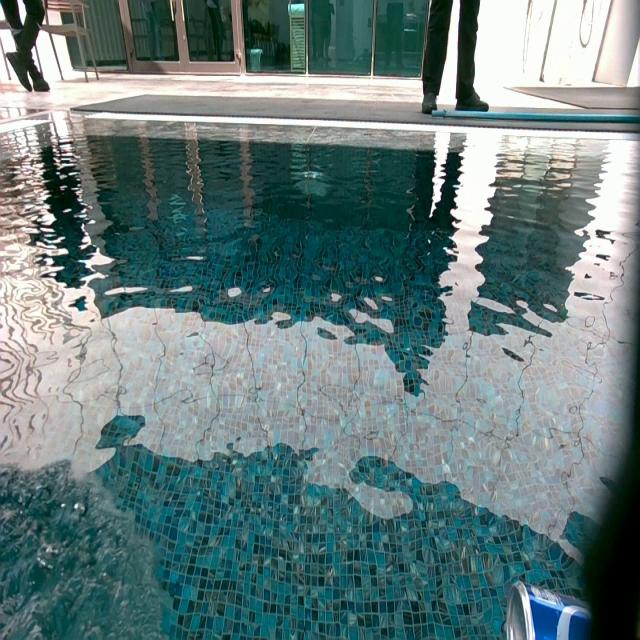Cans: (501, 585, 592, 640)
